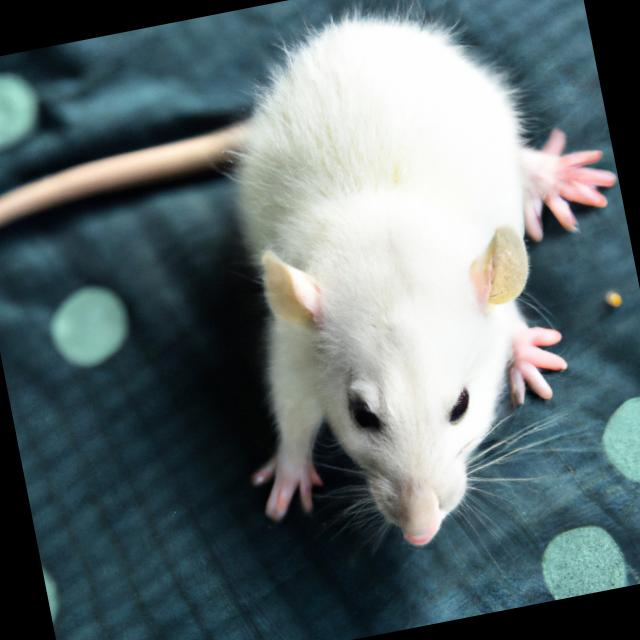rodents: (167, 0, 609, 583)
